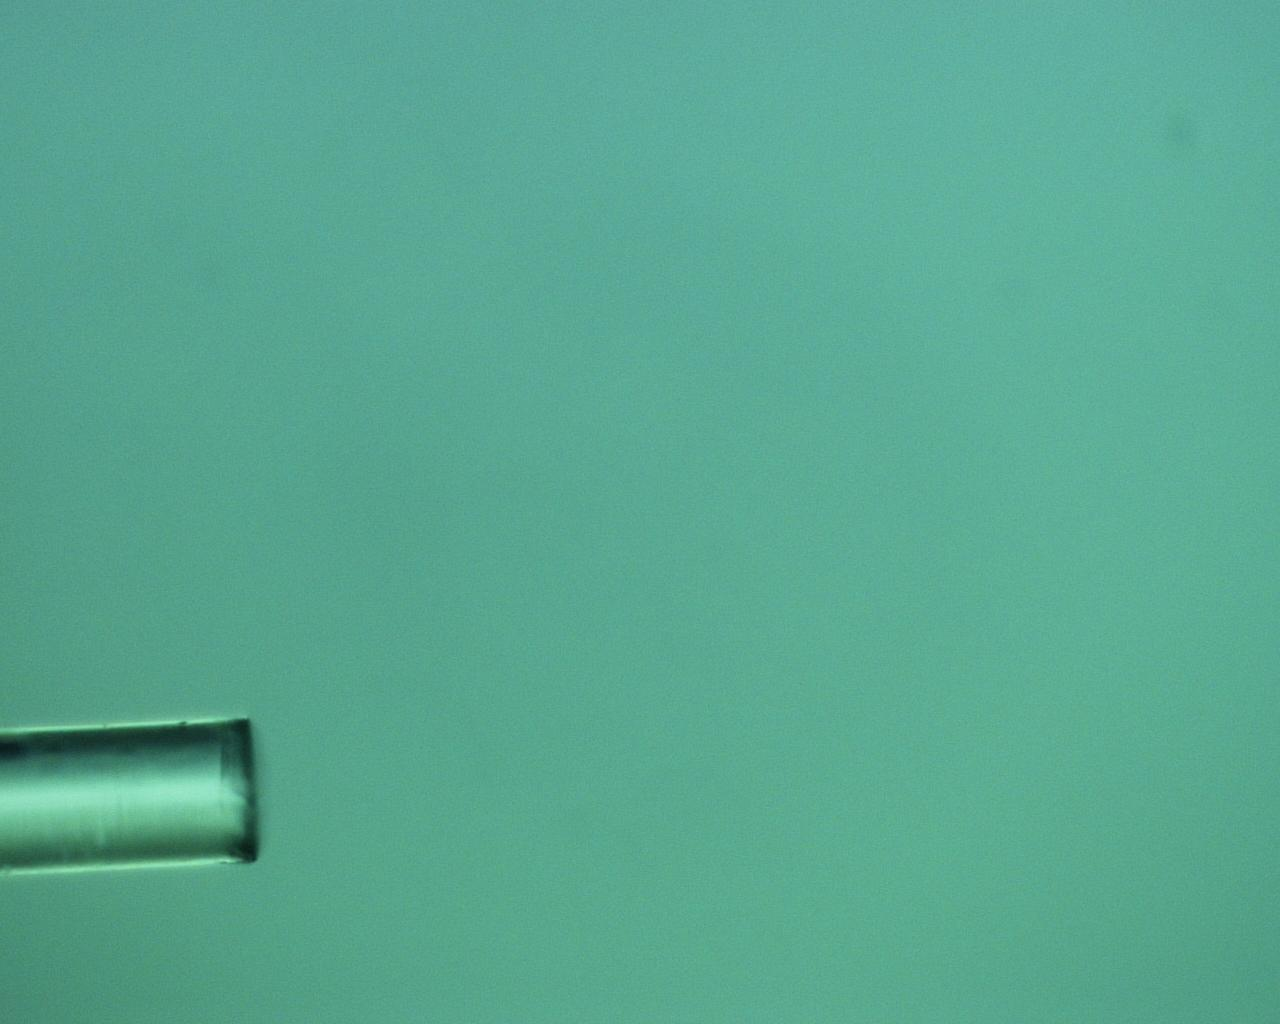fiber: (0, 718, 259, 872)
